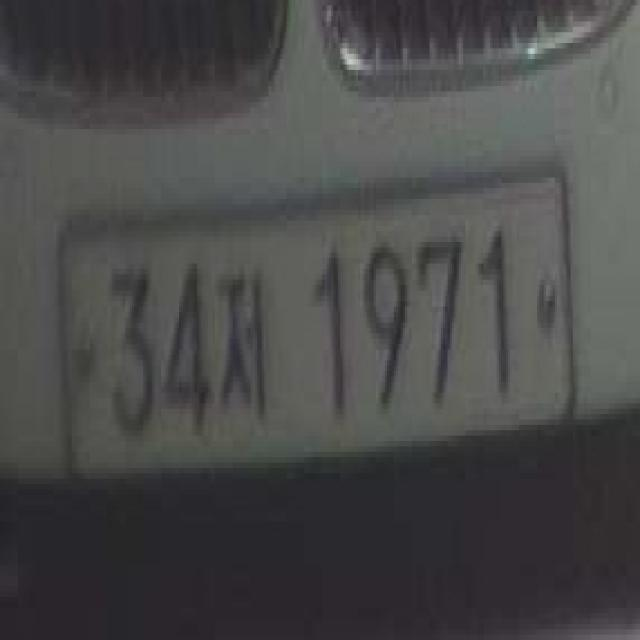1: (311, 248, 347, 420), (479, 226, 510, 398)
3: (103, 258, 157, 436)
4: (165, 253, 212, 430)
7: (414, 231, 463, 409)
9: (362, 242, 410, 414)
jeo: (215, 258, 271, 425)
license_plate: (53, 162, 580, 500)
